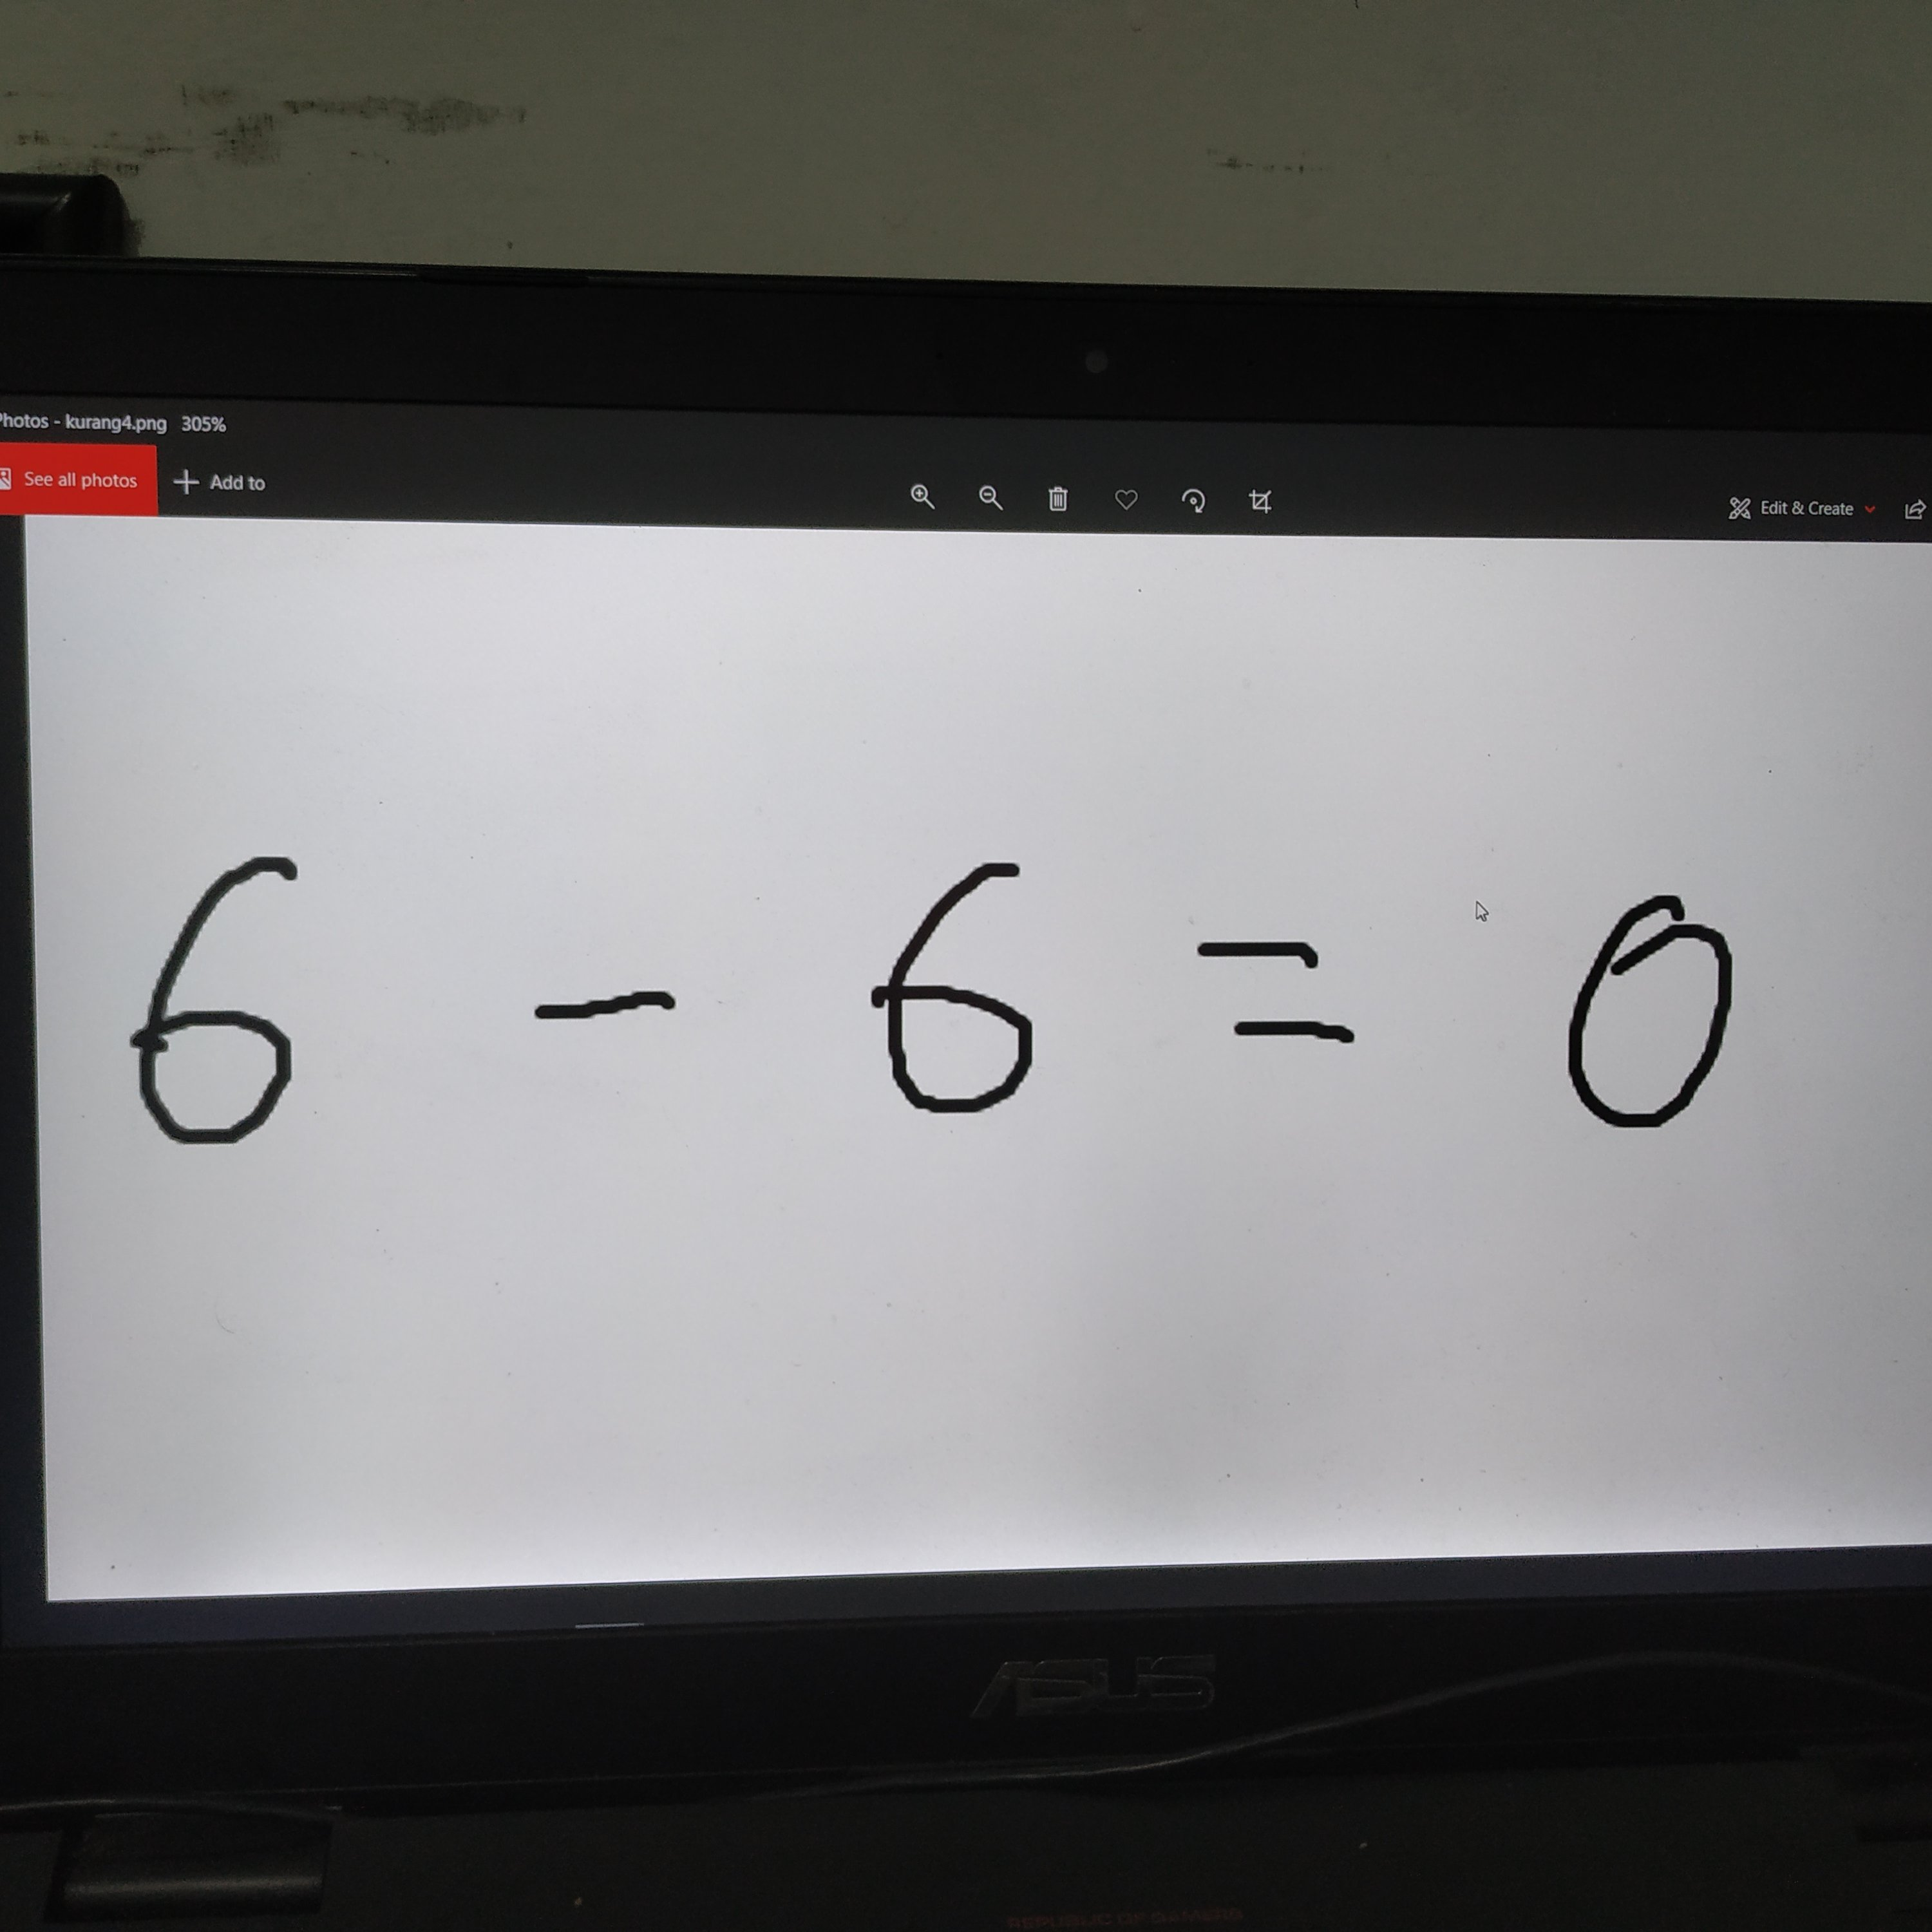equal: (1179, 916, 1396, 1070)
min: (509, 982, 701, 1034)
num0: (1555, 885, 1745, 1144)
num6: (111, 846, 352, 1163), (857, 839, 1077, 1132)
